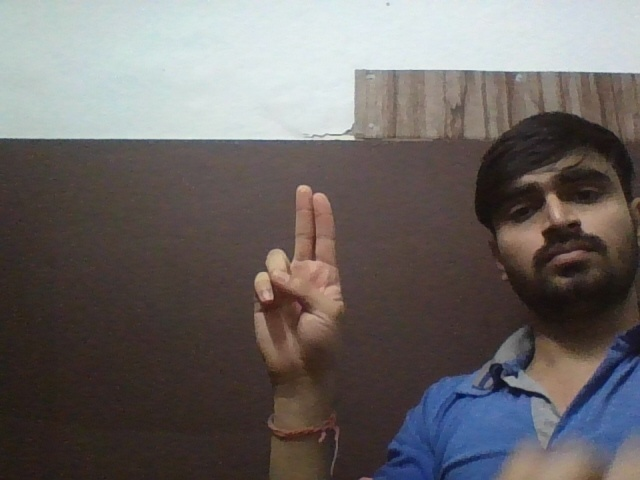U: (253, 177, 359, 389)
